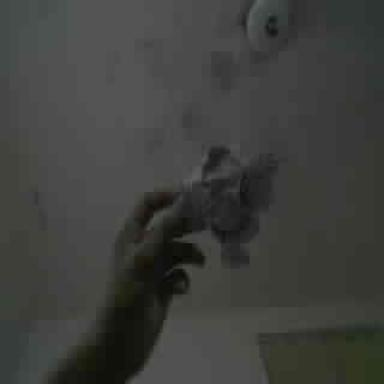paper: (182, 147, 278, 264)
